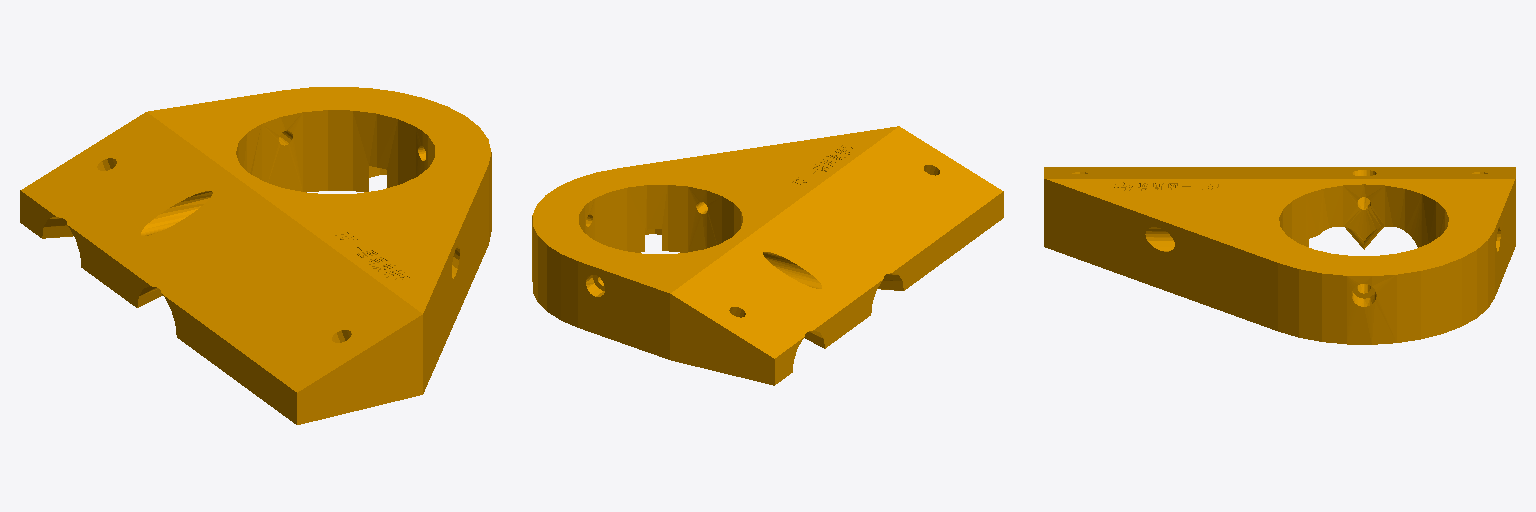
robot.urdf — gemini335l_wrist_right:
<?xml version="1.0"?>
<!-- Written by tools/assemble.py from gemini335l_wrist_right.xml: the same robot. Edit the MJCF, not this file. -->
<robot name="gemini335l_wrist_right">
  <link name="bracket_link">
    <inertial><origin xyz="-0.01704678173 -0.0186586594 0.01138041122" rpy="-1.956841585 -1.522289307 -3.021518131"/><mass value="0.028999999"/><inertia ixx="4.100022908e-05" ixy="0" ixz="0" iyy="2.966599809e-05" iyz="0" izz="1.263939978e-05"/></inertial>
    <visual><origin xyz="0 0 0" rpy="0 0 0"/><geometry><mesh filename="meshes/visual/right_bracket_link_vis.obj"/></geometry></visual>
    <collision><origin xyz="0 0 0" rpy="0 0 0"/><geometry><mesh filename="meshes/collision/right_bracket_link_col.obj"/></geometry></collision>
  </link>
  <link name="camera_mount">
    <inertial><origin xyz="0 0 0" rpy="0 0 0"/><mass value="1e-09"/><inertia ixx="1e-06" ixy="0" ixz="0" iyy="1e-06" iyz="0" izz="1e-06"/></inertial>
  </link>
  <joint name="camera_mount_fixed" type="fixed"><parent link="bracket_link"/><child link="camera_mount"/><origin xyz="-0.04543449102 -0.06750000076 0.03740745264" rpy="0 -1.221730476 -3.141592654"/></joint>
</robot>

--- What the picture shows (computed from the rendered views, not written in the file) ---
The picture shows the robot from 3 angles, left to right: view 1: azimuth 30°, elevation 25°; view 2: azimuth 150°, elevation 25°; view 3: azimuth 270°, elevation 25°; orthographic projection.
Robot: gemini335l_wrist_right — 2 links, 1 joints (1 fixed); root link bracket_link; default pose: all joints at 0.
Visible links, largest first — view 1: bracket_link; view 2: bracket_link; view 3: bracket_link.
Link boxes in pixels (x1=…): bracket_link: x1=20, y1=87, x2=491, y2=424; bracket_link: x1=532, y1=126, x2=1003, y2=385; bracket_link: x1=1044, y1=167, x2=1515, y2=344.
Bounding box of the posed robot: 0.0845 × 0.112 × 0.018 m (x, y, z).
1 mesh visuals loaded from 1 distinct referenced files (1 OBJ).
